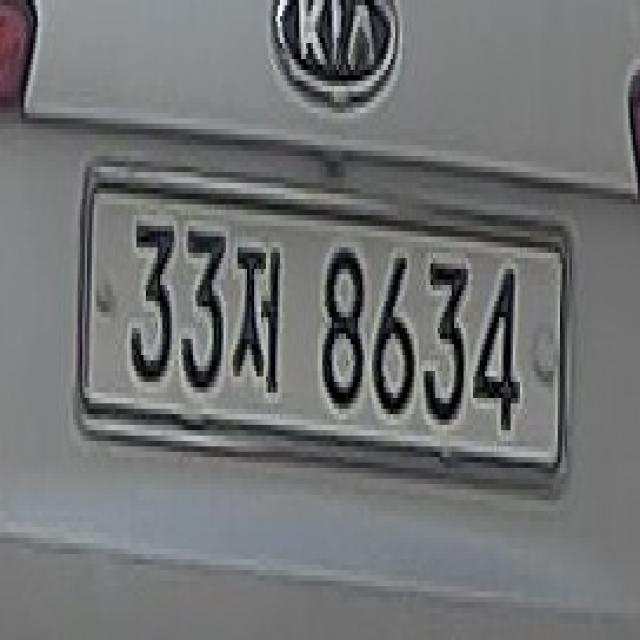3: (176, 215, 228, 398), (421, 253, 471, 430), (127, 215, 177, 387)
4: (468, 258, 522, 436)
6: (369, 242, 416, 420)
8: (320, 237, 367, 414)
jeo: (230, 242, 284, 393)
license_plate: (78, 167, 570, 489)
